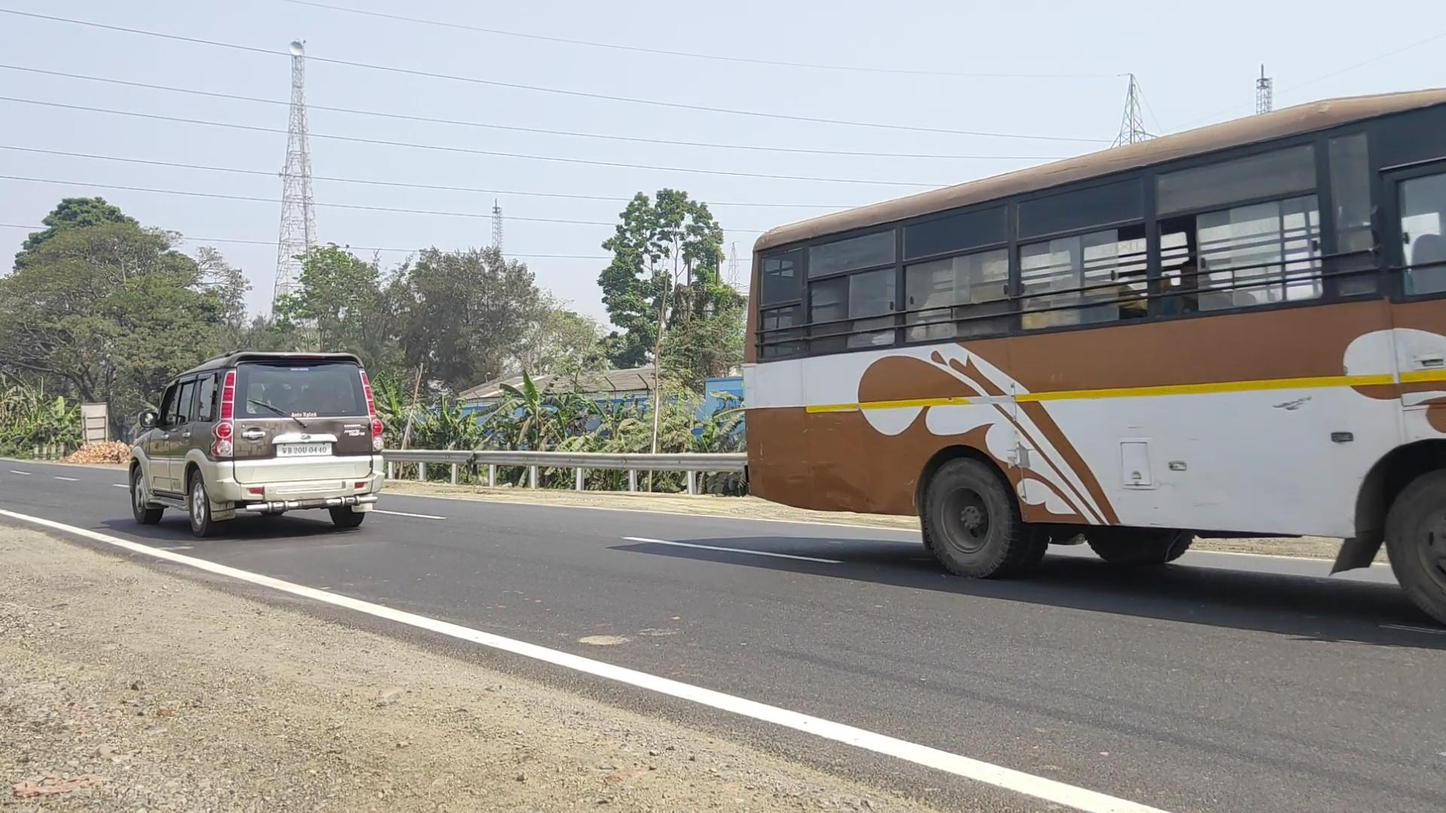Bus: (743, 88, 1446, 629)
car: (127, 352, 385, 537)
